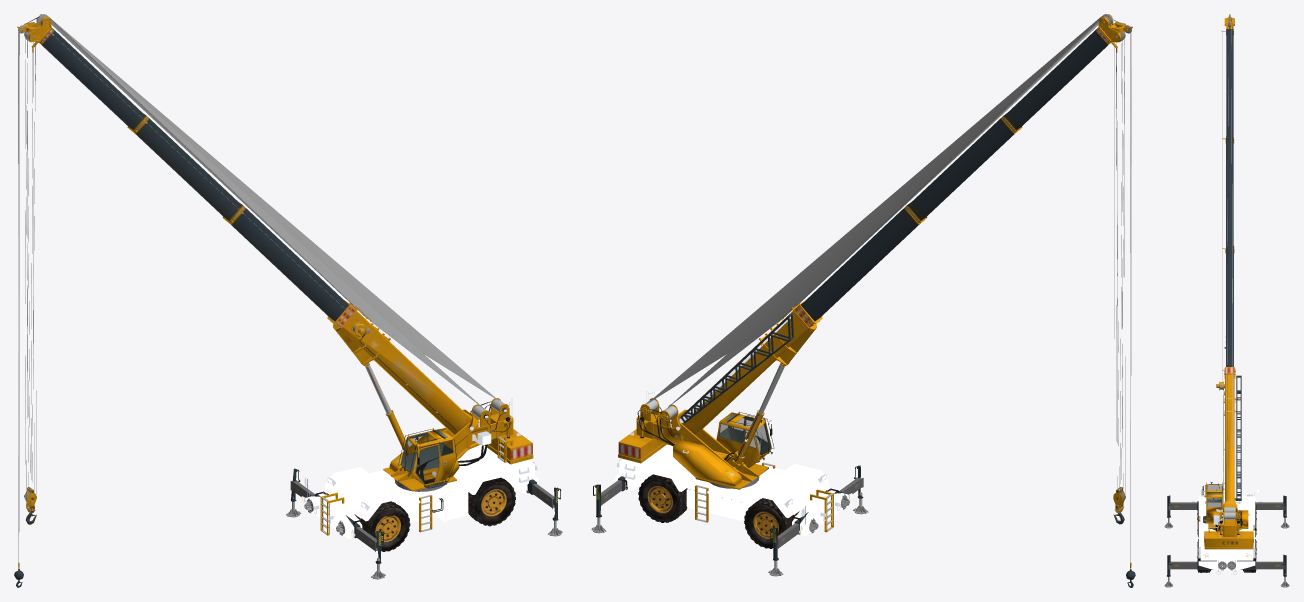
The model's file is crane.glb.
3 renders of one model, left to right at view 1: azimuth 30°, elevation 25°; view 2: azimuth 150°, elevation 25°; view 3: azimuth 270°, elevation 25°, orthographic. The views are drawn at different scales.
Visible parts, largest first — view 1: polySurface61, pCylinder236, polySurface63, polySurface45, polySurface51, polySurface75, polySurface52, polySurface126, pCube26, pCube33, polySurface199, polySurface110 (+2 smaller); view 2: pCylinder236, polySurface61, polySurface51, polySurface75, polySurface45, polySurface52, polySurface63, pCube30, polySurface112, polySurface126, pCube26, pCube64 (+3 smaller); view 3: polySurface61, polySurface45, polySurface51, polySurface75, polySurface52, pCube33, polySurface175, polySurface112, polySurface110, polySurface126, polySurface63, pCylinder236 (+4 smaller).
Boxes of the visible parts, x1,y1,x2,y2 form: polySurface61: (305, 444, 538, 538); pCylinder236: (18, 16, 498, 562); polySurface63: (26, 18, 485, 498); polySurface45: (327, 300, 479, 435); polySurface51: (222, 202, 348, 321); polySurface75: (17, 14, 145, 130); polySurface52: (127, 113, 242, 220); polySurface126: (401, 429, 459, 484); pCube26: (411, 419, 496, 478); pCube33: (484, 429, 533, 464); polySurface199: (472, 482, 514, 524); polySurface110: (290, 468, 382, 563); pCylinder236: (647, 17, 1131, 562); polySurface61: (615, 444, 848, 535); polySurface51: (801, 202, 927, 321); polySurface75: (1004, 14, 1132, 130); polySurface45: (670, 300, 822, 435); polySurface52: (908, 113, 1022, 220); polySurface63: (668, 17, 1125, 496); pCube30: (673, 440, 741, 486); polySurface112: (680, 313, 794, 422); polySurface126: (716, 412, 771, 467); pCube26: (653, 419, 746, 472); pCube64: (686, 488, 754, 520); polySurface61: (1198, 493, 1255, 570); polySurface45: (1222, 367, 1237, 512); polySurface51: (1225, 245, 1234, 366); polySurface75: (1224, 14, 1234, 136); polySurface52: (1225, 136, 1234, 245); pCube33: (1204, 531, 1253, 549); polySurface175: (1167, 554, 1286, 576); polySurface112: (1234, 375, 1241, 500); polySurface110: (1167, 495, 1286, 517); polySurface126: (1205, 484, 1222, 523); polySurface63: (1227, 55, 1228, 488); pCylinder236: (1230, 15, 1232, 450).
Size of the model in its own units: 27.47 by 31.08 by 8.59.
Materials: 13 (12 with a texture image).
